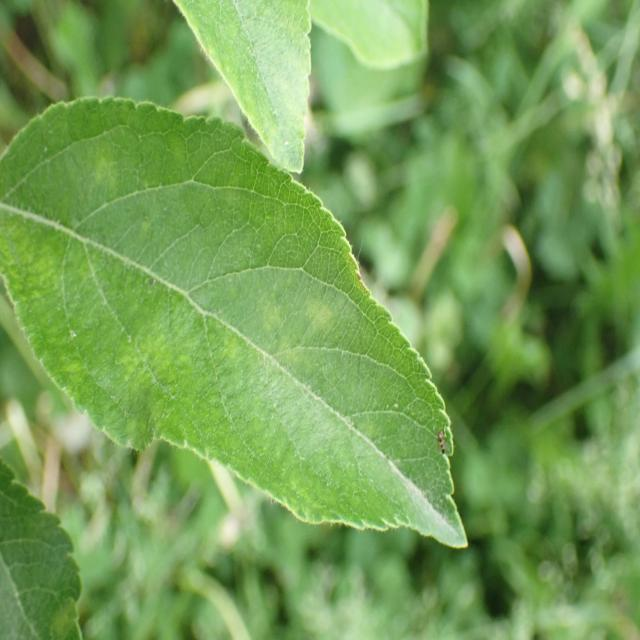scab: (73, 140, 397, 500)
